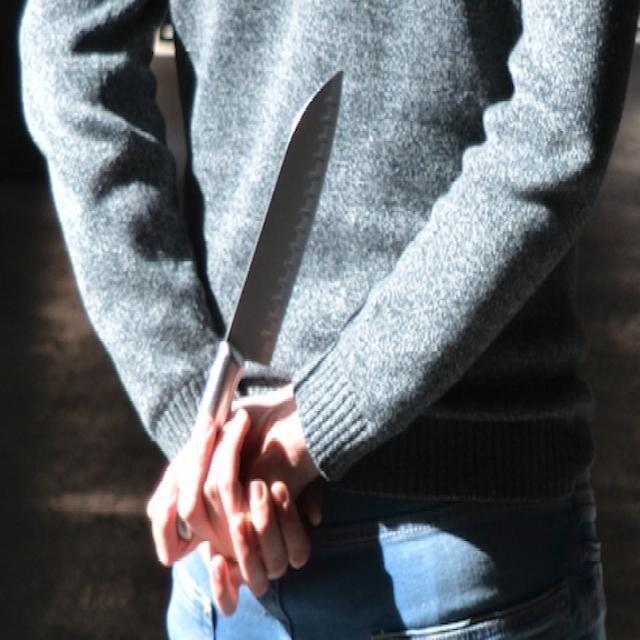suspicion: (14, 5, 353, 567), (175, 65, 348, 408), (174, 515, 202, 548)
